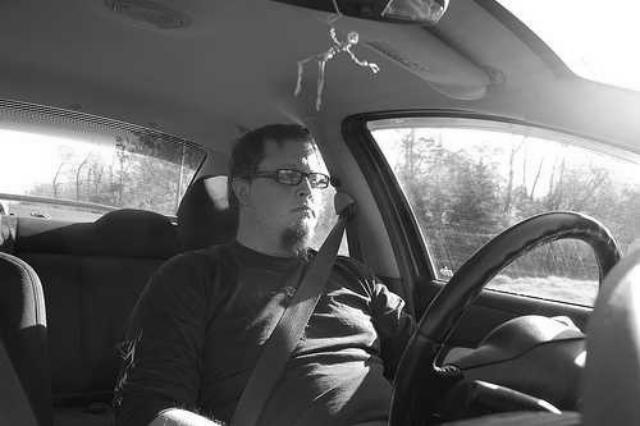Seatbelt: (224, 191, 355, 426)
